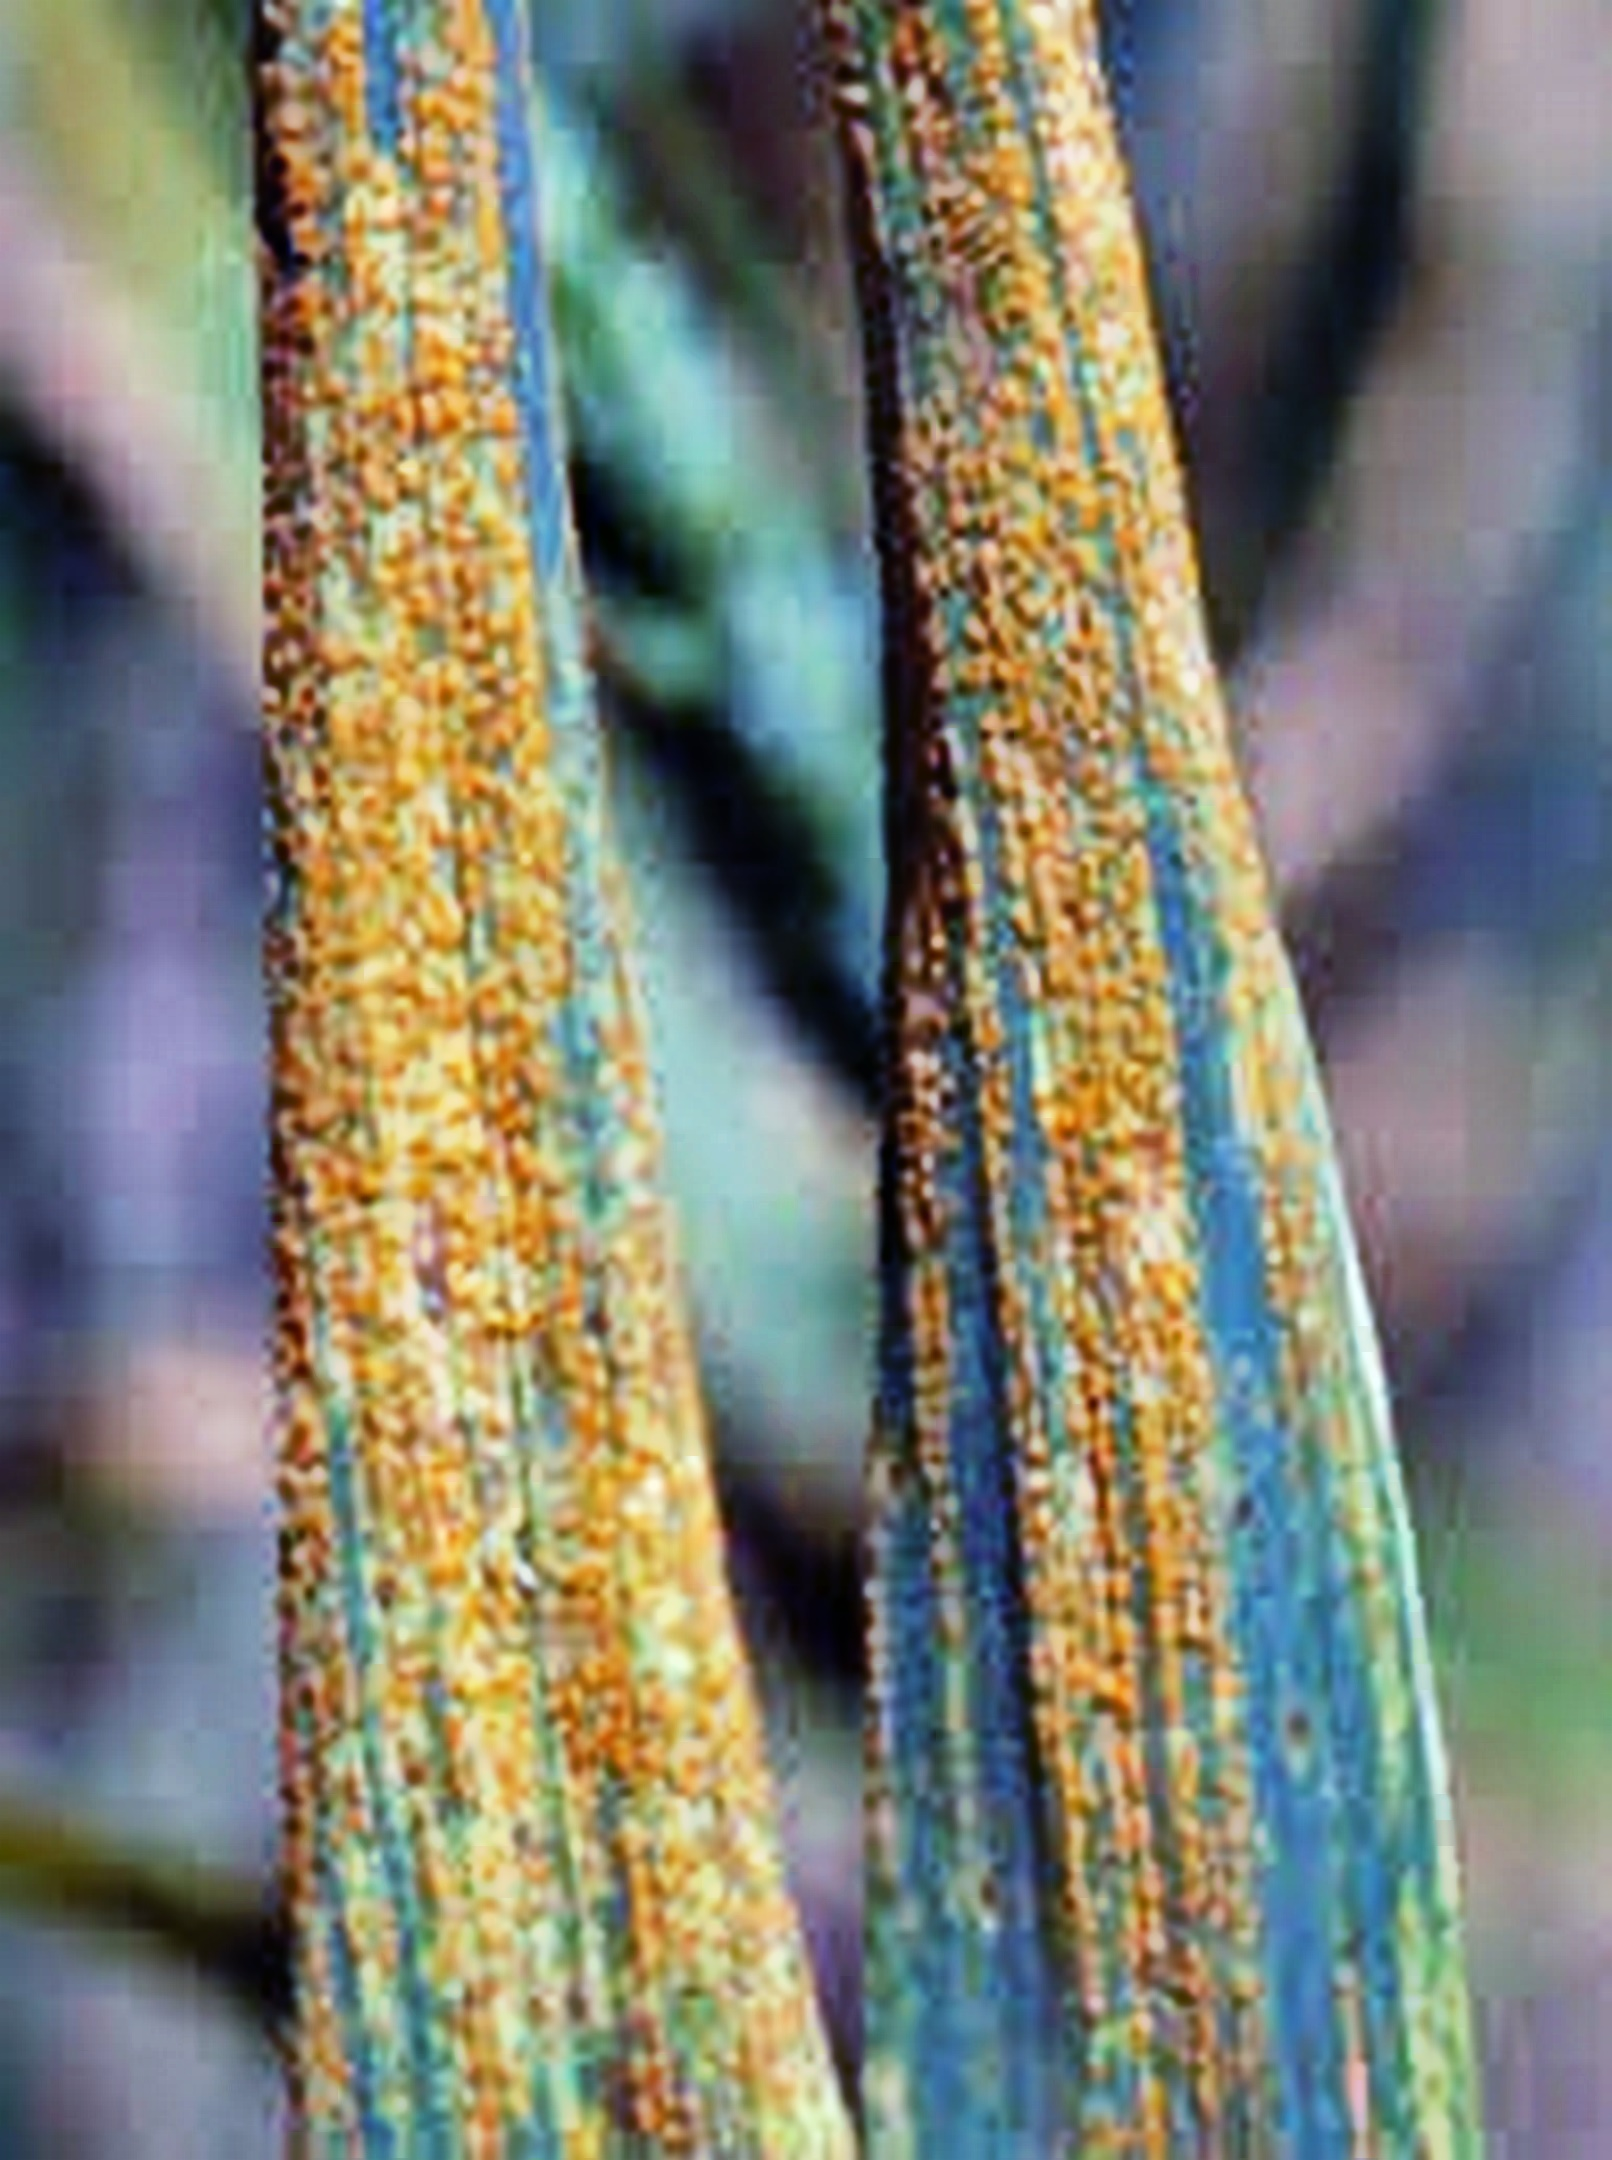Leaf Rust: (261, 185, 799, 1989), (842, 247, 1400, 1952)
